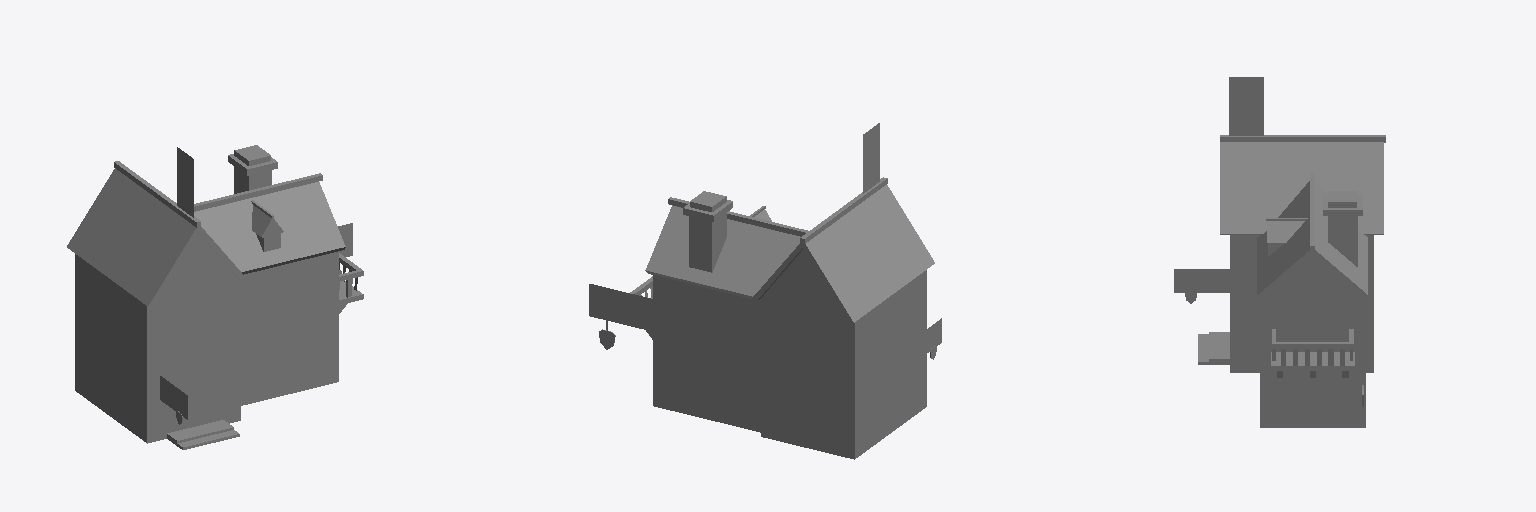
Rendered from Casa5.obj.
The picture shows the model from 3 angles: view 1: azimuth 30°, elevation 25°; view 2: azimuth 150°, elevation 25°; view 3: azimuth 270°, elevation 25°; orthographic projection.
Parts seen in each view (by area): view 1: cadnav_com; view 2: cadnav_com; view 3: cadnav_com.
Boxes of the visible parts, x1=… form: cadnav_com: x1=67, y1=145, x2=363, y2=449; cadnav_com: x1=589, y1=123, x2=941, y2=459; cadnav_com: x1=1174, y1=77, x2=1385, y2=427.
Bounding box in the file's own units: 525 × 497 × 348.